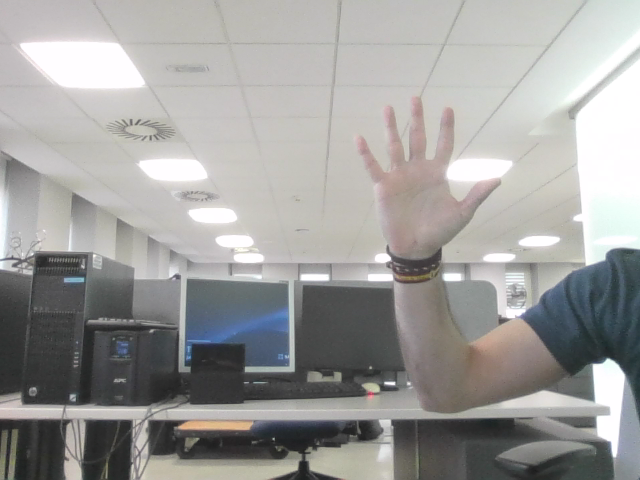Mano Abierta: (364, 108, 489, 228)
